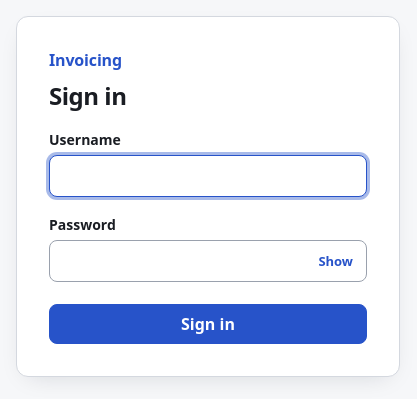
Test: LoginPage › toggles password visibility
Click the button with aria-label "Show password": {"x": 336, "y": 260} [310, 248, 361, 274]
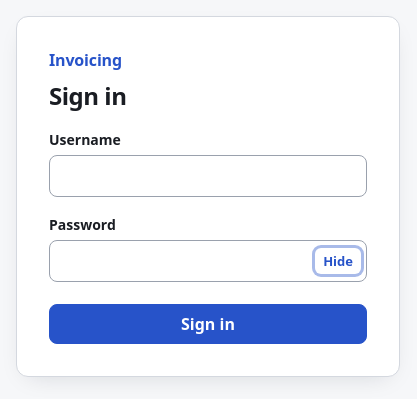
Now the button with aria-label "Hide password" is shown, box [315, 248, 361, 274]
